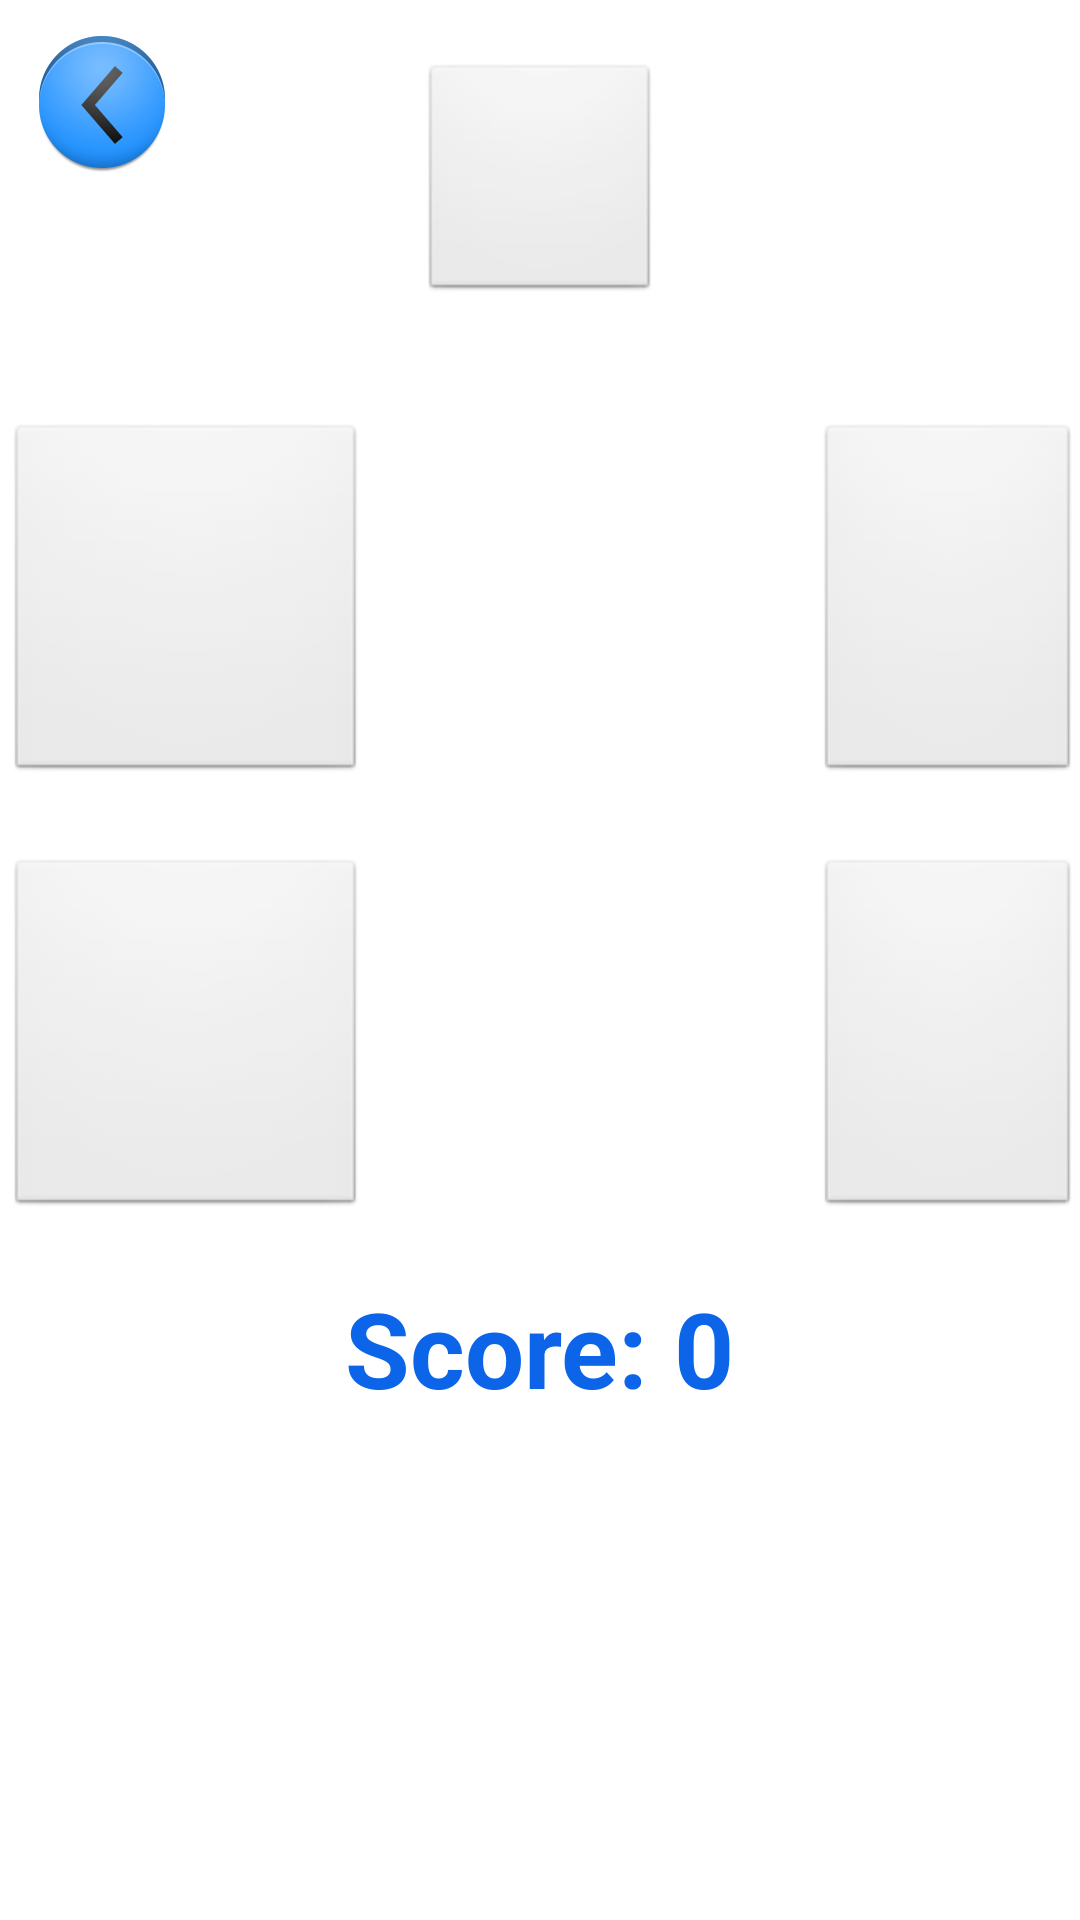

Icon bounding boxes for this 1080 x 1920 phone screenshot, format bbox=[x1, y1, x2, y2]:
previous: bbox=[39, 36, 165, 171]
